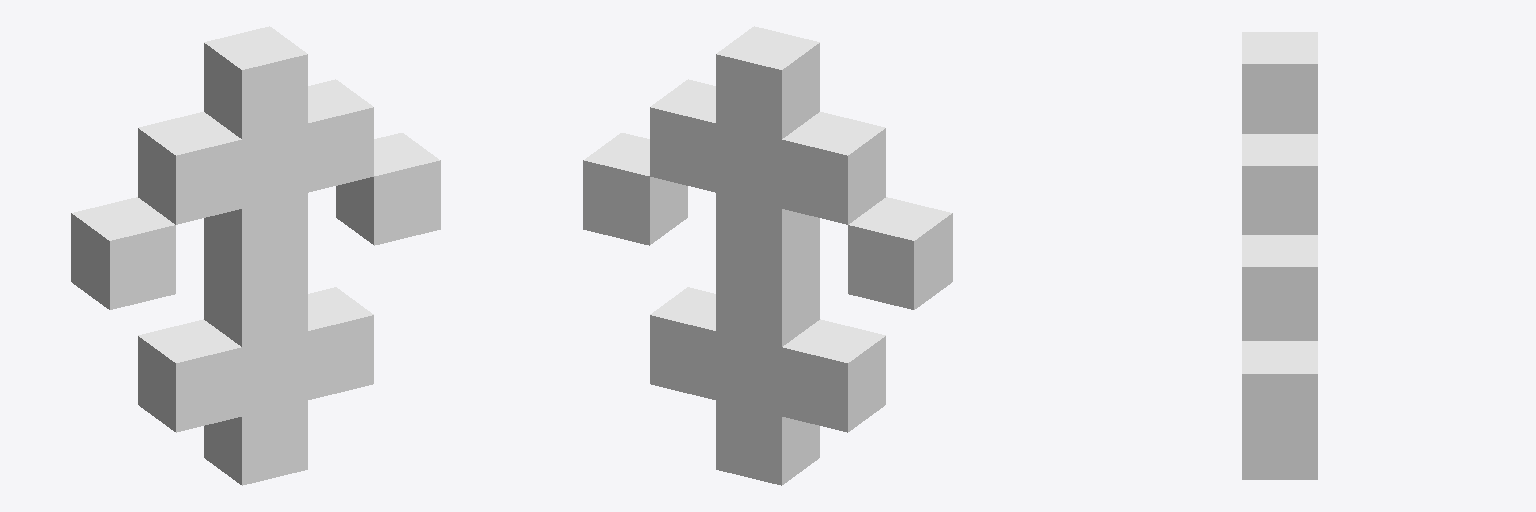
File: lif_indicator.obj
3 renders of one model, left to right at view 1: azimuth 30°, elevation 25°; view 2: azimuth 150°, elevation 25°; view 3: azimuth 270°, elevation 25°, orthographic.
Parts seen in each view (by area): view 1: object 1; view 2: object 1; view 3: object 1.
Boxes of the visible parts, box(x1,y1,x2,y2) form: object 1: box(71, 26, 440, 485); object 1: box(583, 26, 952, 485); object 1: box(1242, 32, 1317, 479).
Bounding box in the file's own units: 0.5 × 0.6 × 0.1.